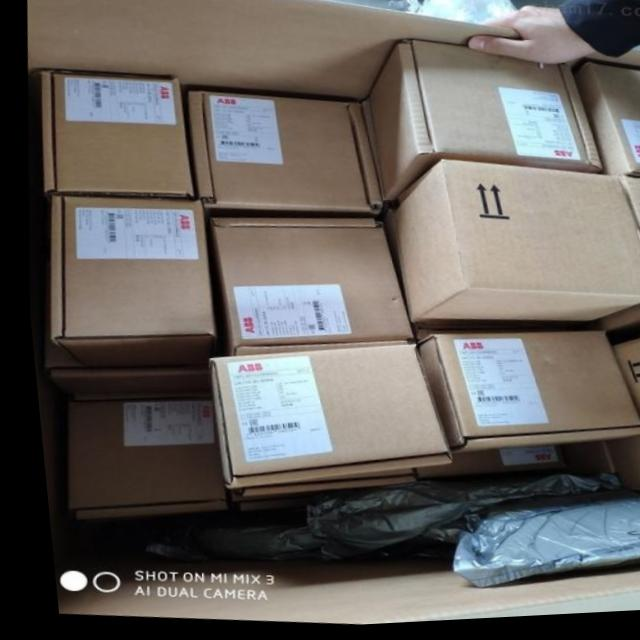box: (388, 163, 640, 332), (366, 44, 598, 206), (201, 347, 443, 488), (42, 194, 210, 366), (407, 335, 638, 458), (205, 220, 404, 355), (184, 92, 377, 221), (39, 70, 190, 202), (56, 395, 216, 517), (37, 343, 199, 395), (572, 67, 640, 183), (221, 472, 405, 511), (596, 341, 640, 497), (405, 448, 556, 483), (614, 181, 640, 263), (548, 443, 603, 478)
